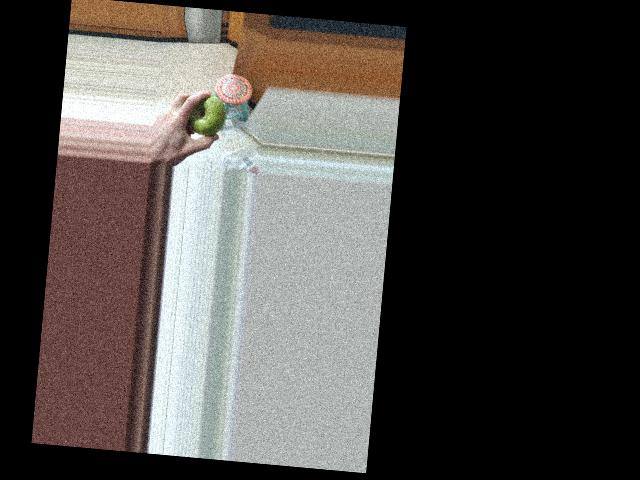apple: (181, 90, 228, 139)
